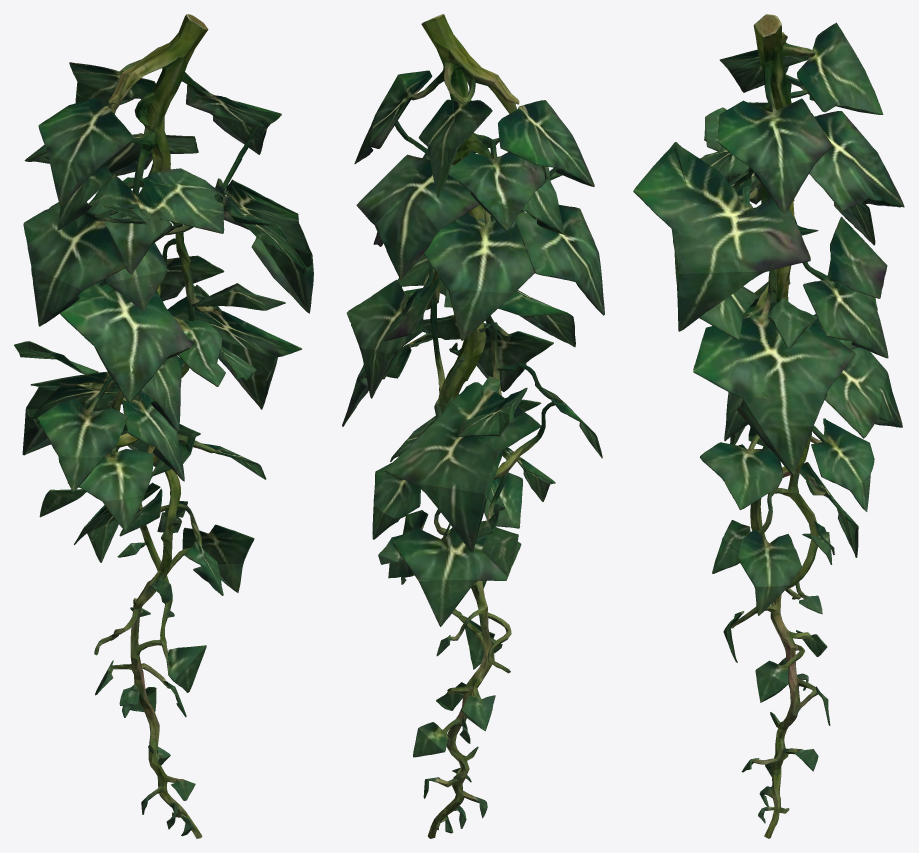
Rendered from dress-ivy.glb.
3 views of the same model, side by side, from view 1: azimuth 30°, elevation 25°; view 2: azimuth 150°, elevation 25°; view 3: azimuth 270°, elevation 25° (orthographic).
Size of the model in its own units: 0.3083 by 0.9998 by 0.3004.
Materials: 1 (1 with a texture image).
